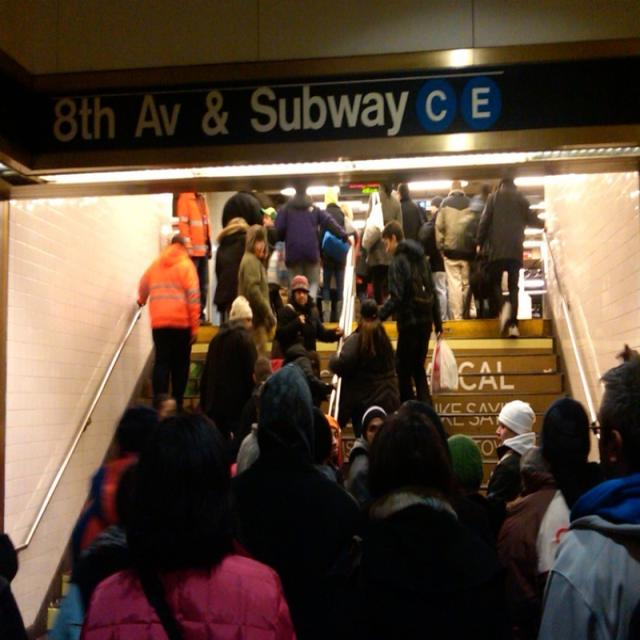body: (75, 407, 302, 639), (323, 398, 508, 640), (213, 359, 372, 639), (0, 395, 177, 640), (535, 350, 640, 640), (228, 344, 392, 504), (492, 394, 591, 640), (368, 219, 447, 414), (134, 230, 202, 420), (474, 173, 550, 341), (272, 174, 355, 305), (327, 294, 396, 442), (198, 292, 258, 442), (318, 182, 364, 335), (434, 178, 478, 322), (274, 272, 346, 358), (236, 223, 278, 360), (484, 398, 537, 505), (221, 171, 282, 262), (175, 191, 214, 327), (364, 175, 402, 305), (213, 215, 253, 328), (420, 194, 450, 324), (440, 426, 484, 506), (469, 182, 494, 319), (394, 180, 430, 243)
